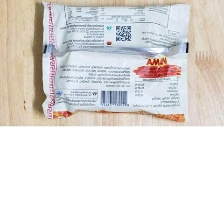snack: (33, 0, 200, 125)
